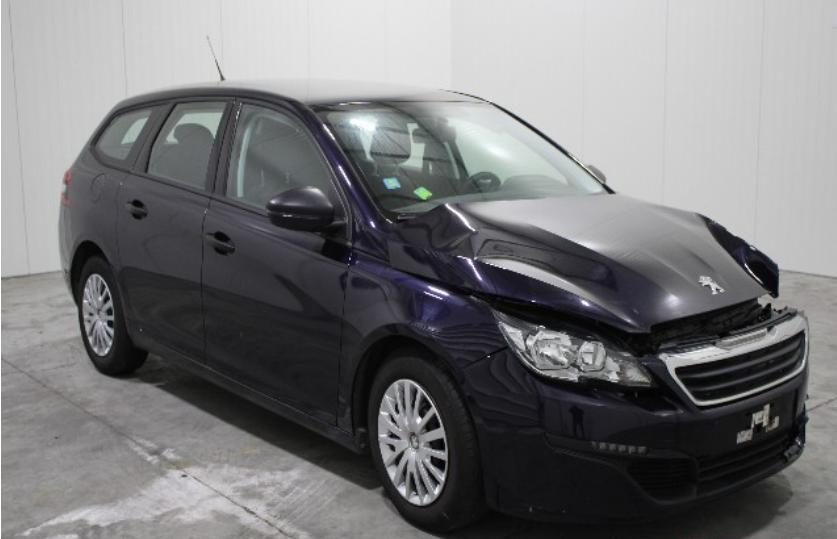Back-bumper: (61, 267, 76, 305)
Back-door: (115, 96, 233, 364)
Back-wheel: (77, 259, 150, 378)
Back-window: (149, 105, 224, 188), (97, 110, 152, 162)
Fender: (338, 250, 503, 438)
Front-bumper: (457, 347, 808, 522)
Front-door: (202, 100, 353, 423)
Front-wheel: (367, 358, 482, 536)
Front-window: (227, 105, 346, 216)
Grille: (662, 314, 810, 405)
Headlight: (493, 311, 650, 385)
Hood: (386, 192, 778, 334)
Mirror: (269, 188, 346, 234), (585, 165, 606, 182)
Quarter-panel: (58, 148, 133, 326)
Rocker-panel: (130, 326, 359, 454)
Roof: (165, 77, 472, 102)
Tail-light: (60, 168, 71, 205)
Windshield: (318, 101, 610, 221)
